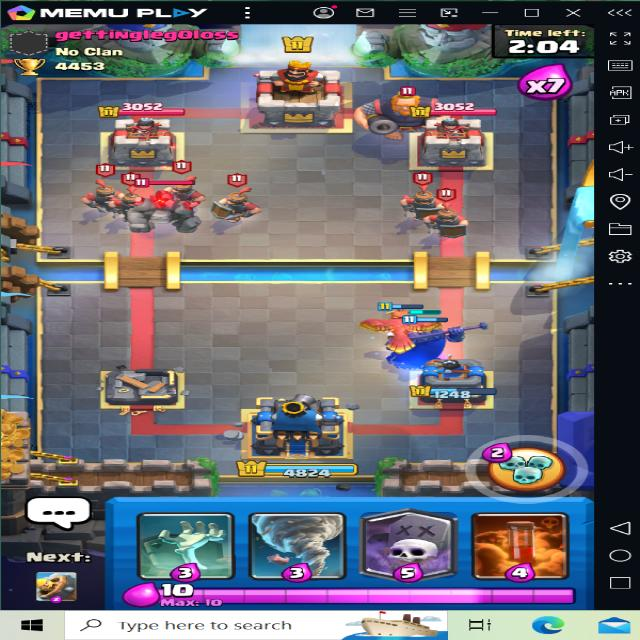Golem: (114, 178, 212, 237)
Royalgiant: (351, 86, 453, 140)
Royalrecruits: (392, 168, 448, 227), (209, 171, 269, 225), (422, 179, 475, 240), (162, 158, 217, 214), (77, 164, 123, 220), (104, 176, 154, 221)
